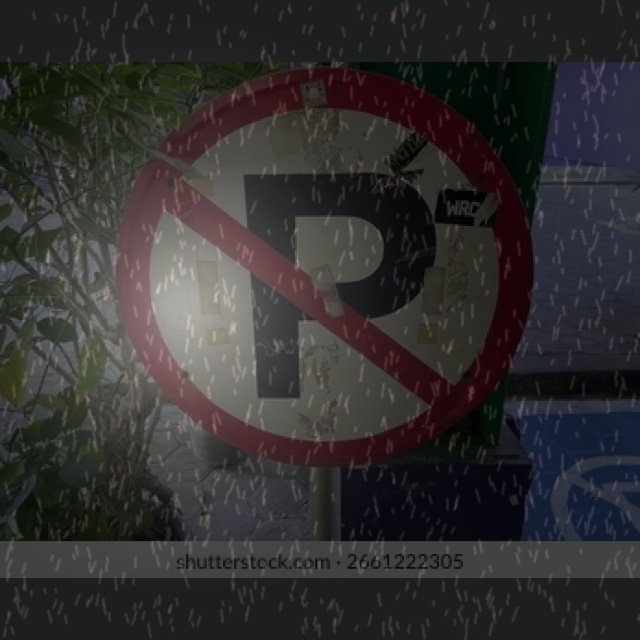No_Parking: (121, 68, 526, 453)
